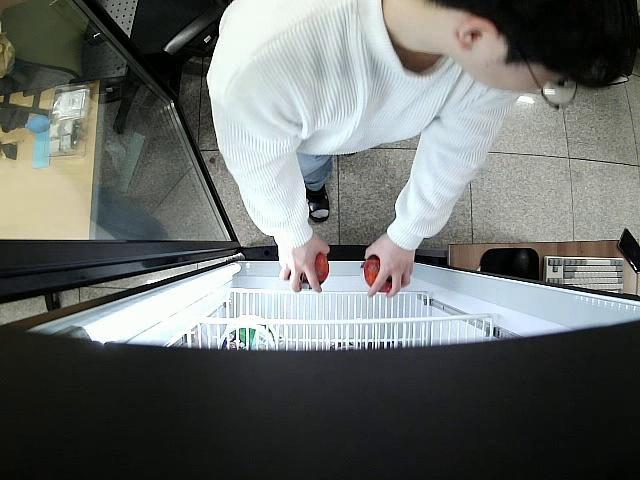02_shinRamen_S: (284, 252, 330, 293), (362, 256, 403, 294)
